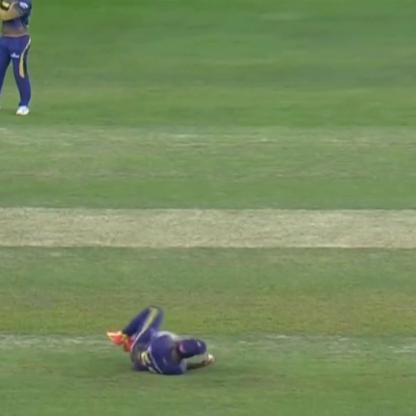ball: (203, 350, 215, 364)
